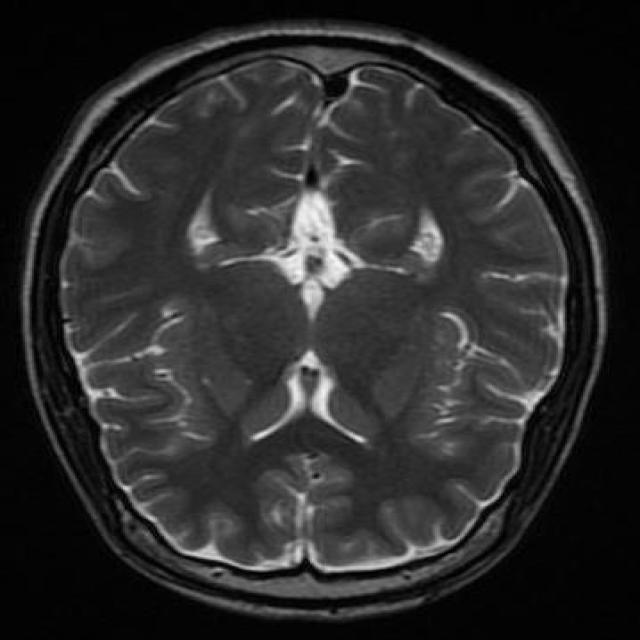notumor: (25, 27, 603, 617)
